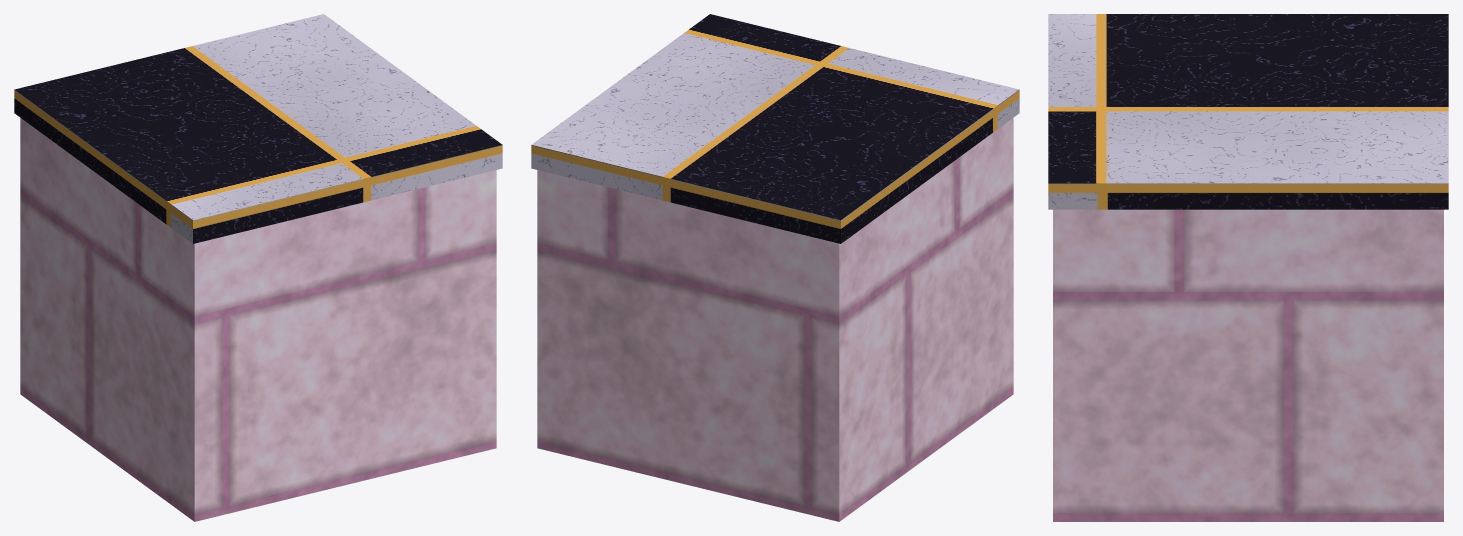
Rendered from citadel_secret_music.glb.
3 renders of one model, left to right at view 1: azimuth 30°, elevation 25°; view 2: azimuth 150°, elevation 25°; view 3: azimuth 270°, elevation 25°, orthographic. The views are drawn at different scales.
Parts seen in each view (by area): view 1: secret_music_trim, secret_music_floor; view 2: secret_music_trim, secret_music_floor; view 3: secret_music_trim, secret_music_floor.
Boxes of the visible parts, left/top/right/bottom form: secret_music_trim: left=20, top=118, right=496, bottom=521; secret_music_floor: left=14, top=14, right=502, bottom=243; secret_music_trim: left=537, top=118, right=1013, bottom=521; secret_music_floor: left=531, top=14, right=1019, bottom=243; secret_music_trim: left=1053, top=209, right=1443, bottom=521; secret_music_floor: left=1048, top=14, right=1448, bottom=209.
Bounding box in the file's own units: 1.64 × 1.54 × 1.64.
Materials: 2 (2 with a texture image).
